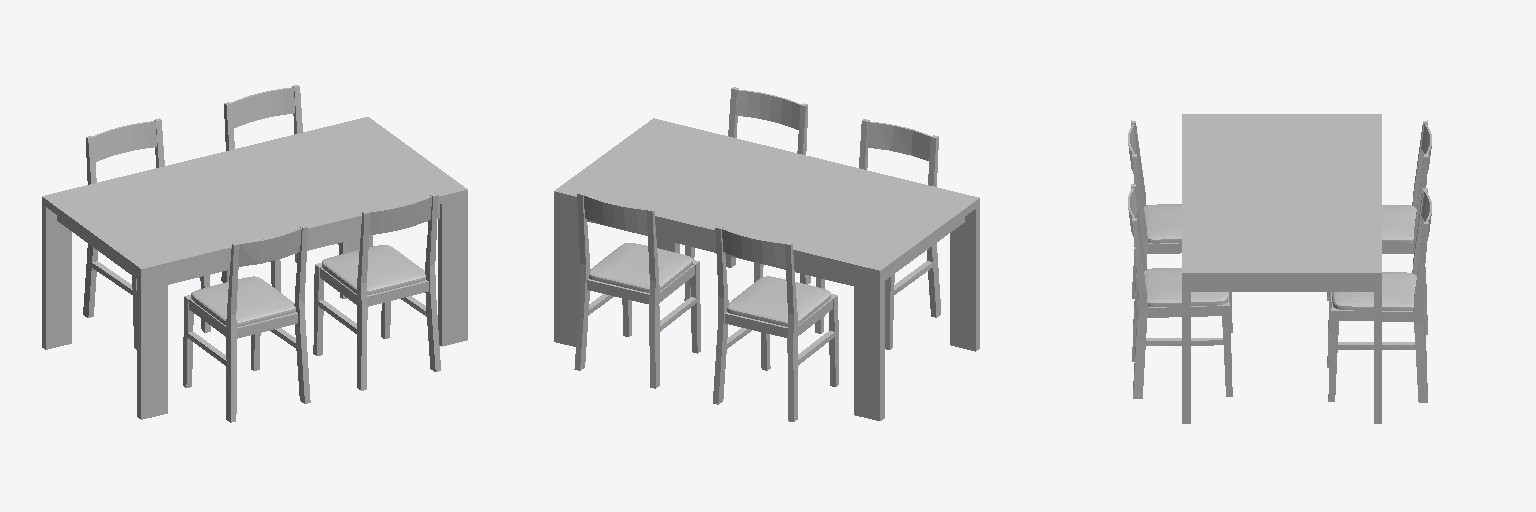
Rendered from LV_dinningTable.obj.
The picture shows the model from 3 angles: view 1: azimuth 30°, elevation 25°; view 2: azimuth 150°, elevation 25°; view 3: azimuth 270°, elevation 25°; orthographic projection.
Visible parts, largest first — view 1: 258; view 2: 258; view 3: 258.
Boxes of the visible parts, x1=… form: 258: x1=42, y1=85, x2=467, y2=422; 258: x1=554, y1=87, x2=979, y2=421; 258: x1=1128, y1=114, x2=1431, y2=423.
Bounding box in the file's own units: 2.77 × 1.43 × 2.24.